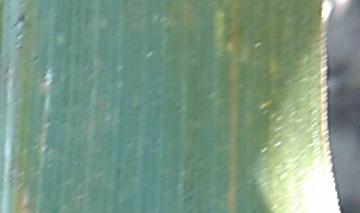tarspot: (10, 13, 26, 29), (39, 71, 49, 85), (14, 31, 24, 38)
